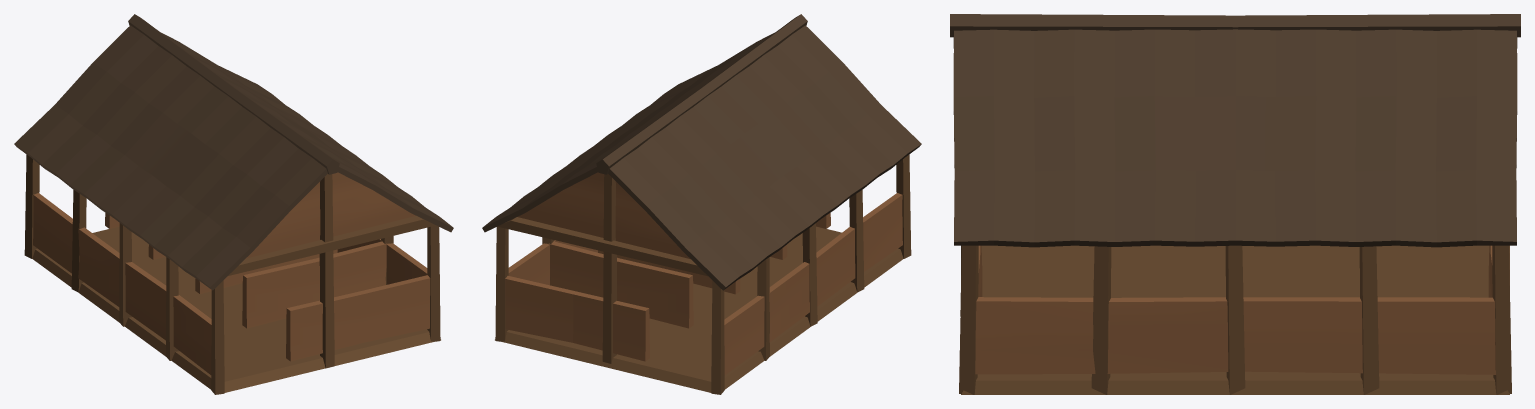
The model's file is medieval_stables-medieval.fbx.
3 views of the same model, side by side, from view 1: azimuth 30°, elevation 25°; view 2: azimuth 150°, elevation 25°; view 3: azimuth 270°, elevation 25° (orthographic). The views are drawn at different scales.
Visible parts, largest first — view 1: medieval_stables_medieval; view 2: medieval_stables_medieval; view 3: medieval_stables_medieval.
Boxes of the visible parts, x1,y1,x2,y2 form: medieval_stables_medieval: [14, 14, 453, 394]; medieval_stables_medieval: [482, 14, 921, 394]; medieval_stables_medieval: [950, 14, 1520, 394].
Bounding box in the file's own units: 142 × 117 × 200.
